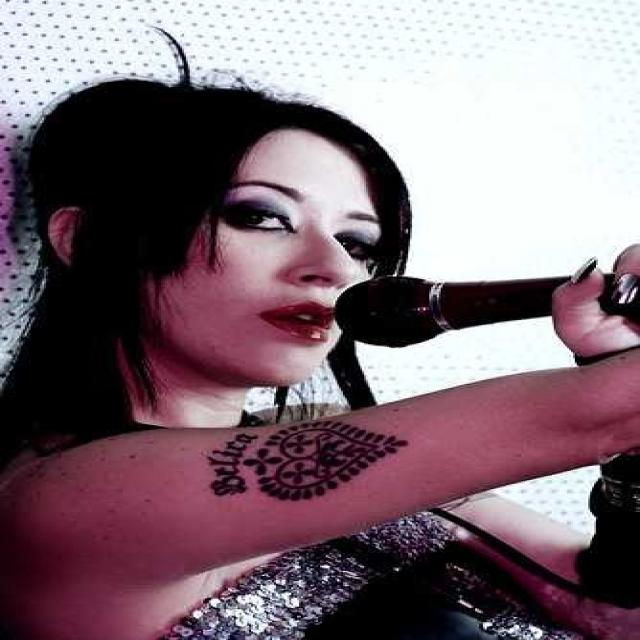microphone: (328, 254, 638, 348)
